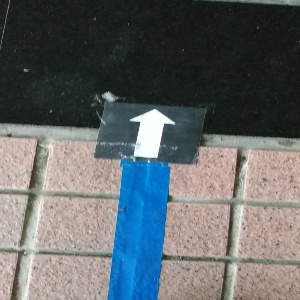straight: (95, 100, 207, 165)
